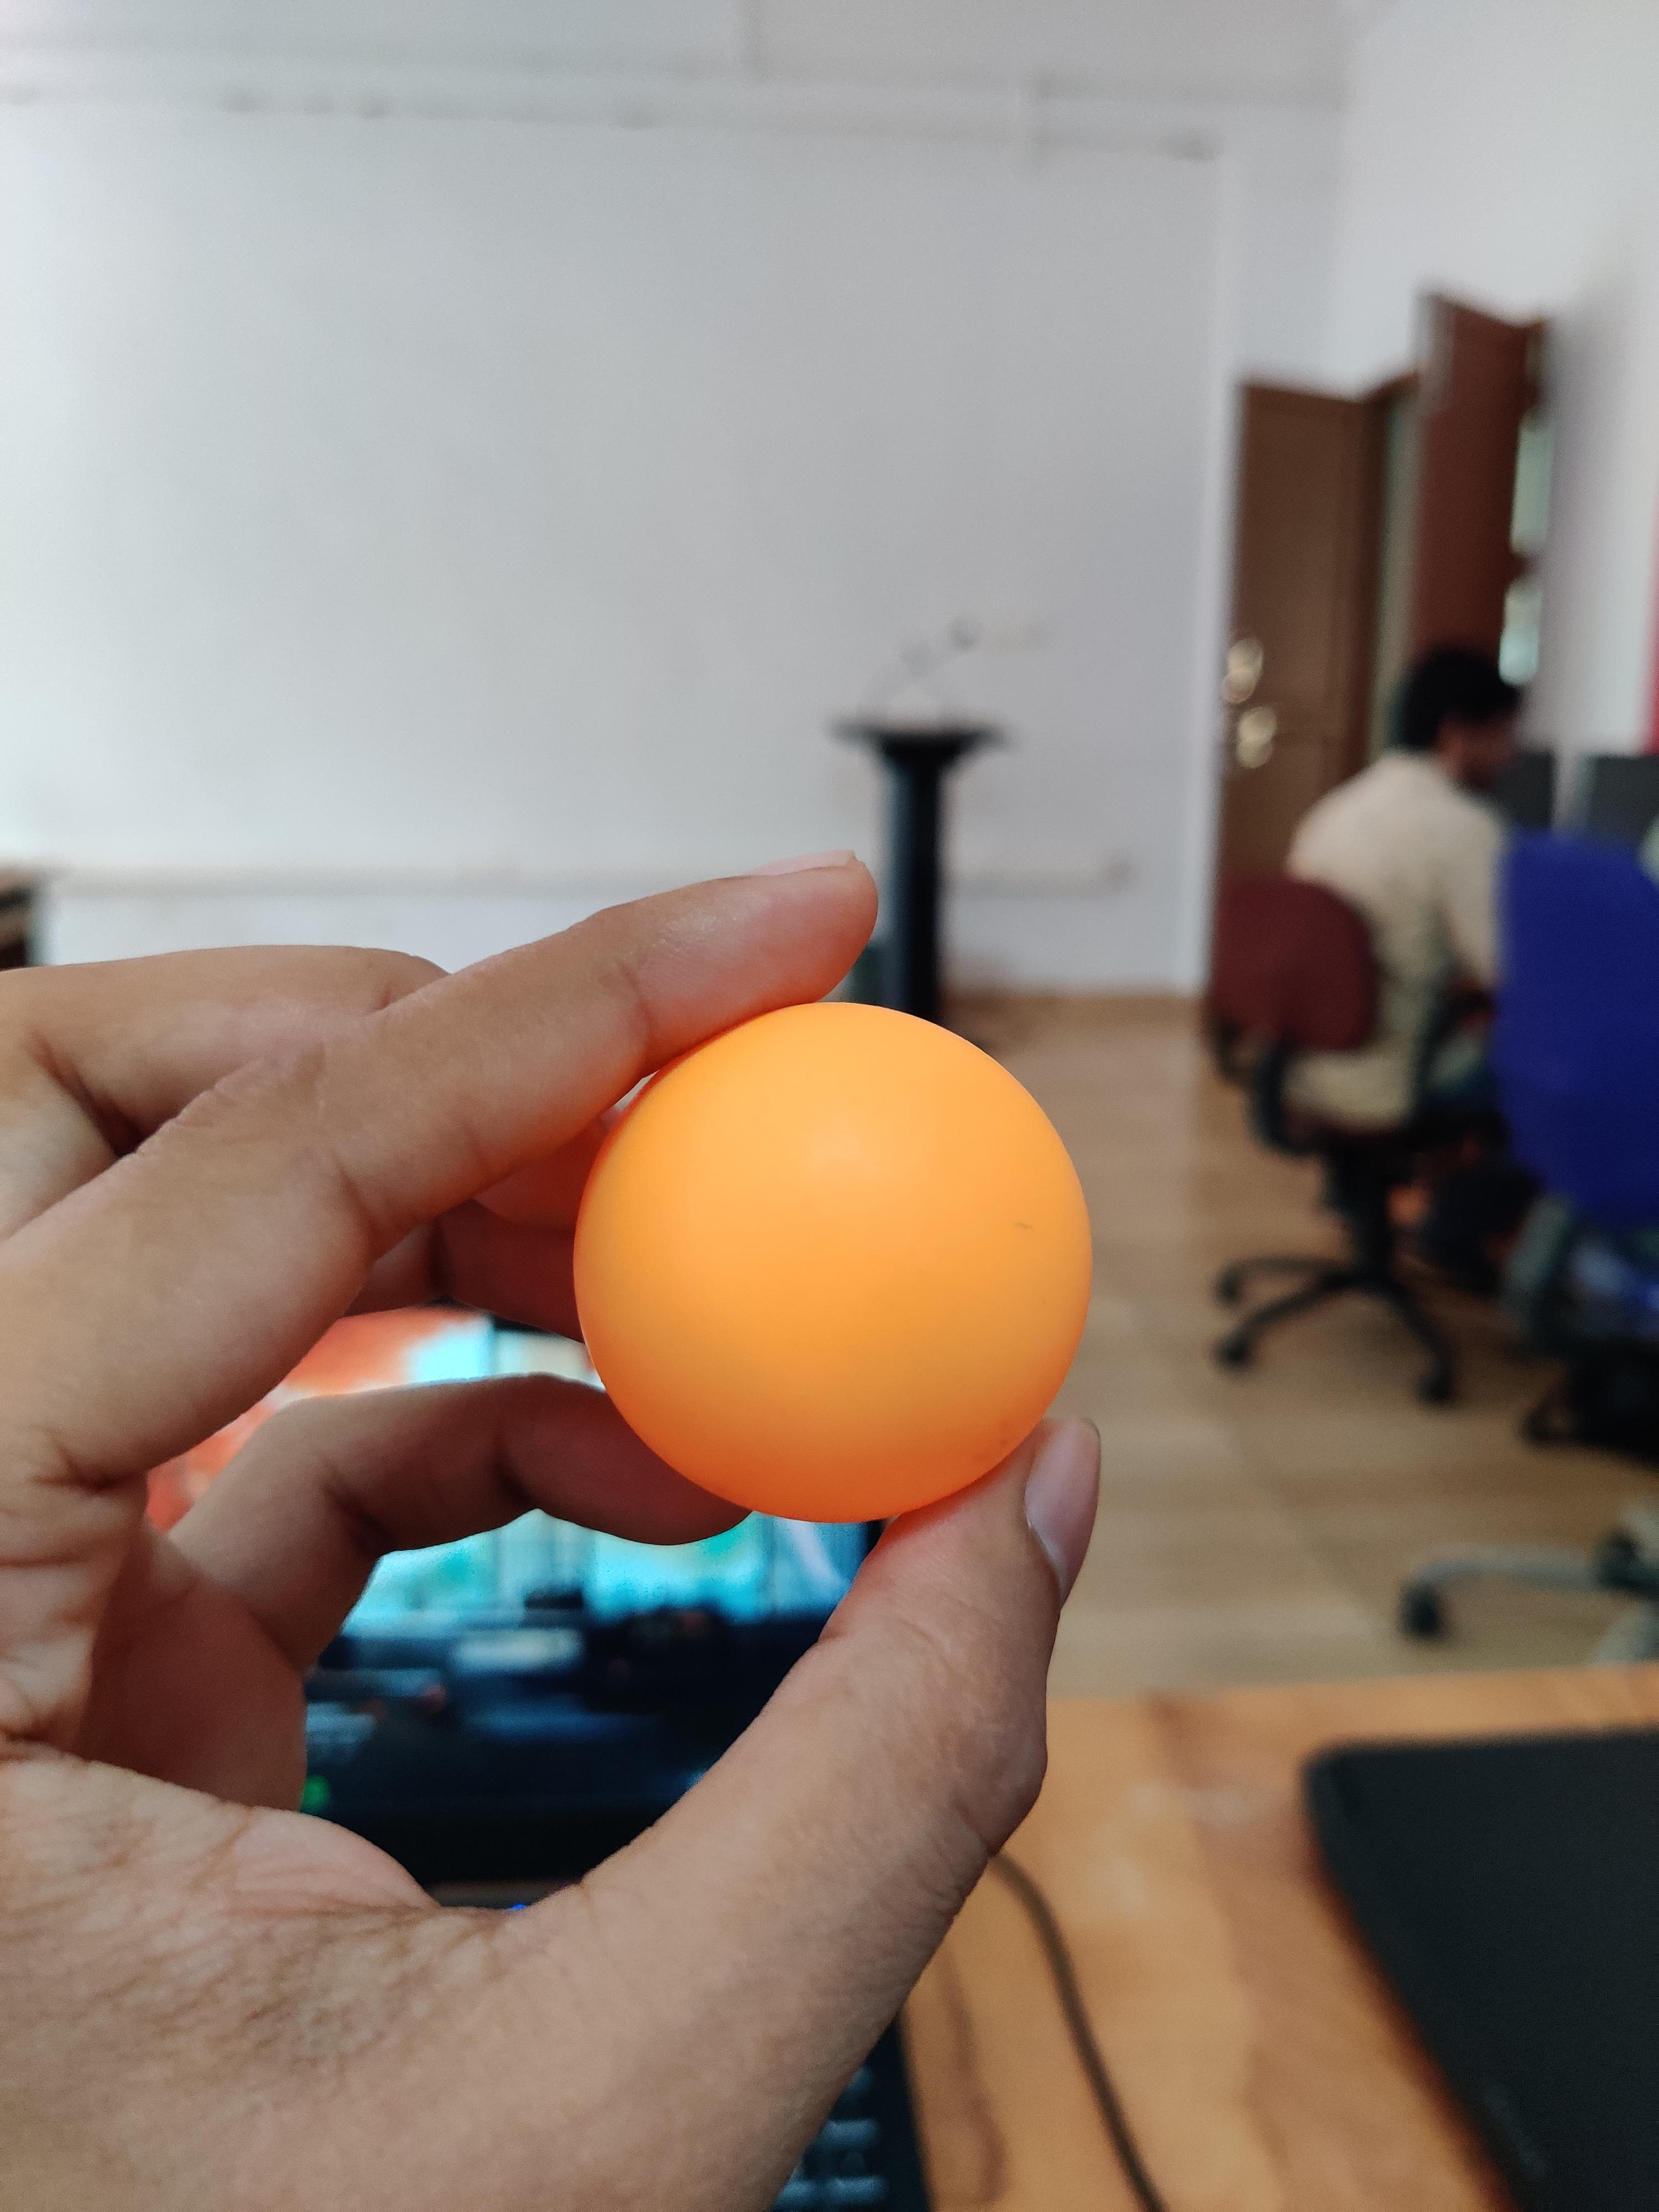orange: (577, 998, 1089, 1522)
